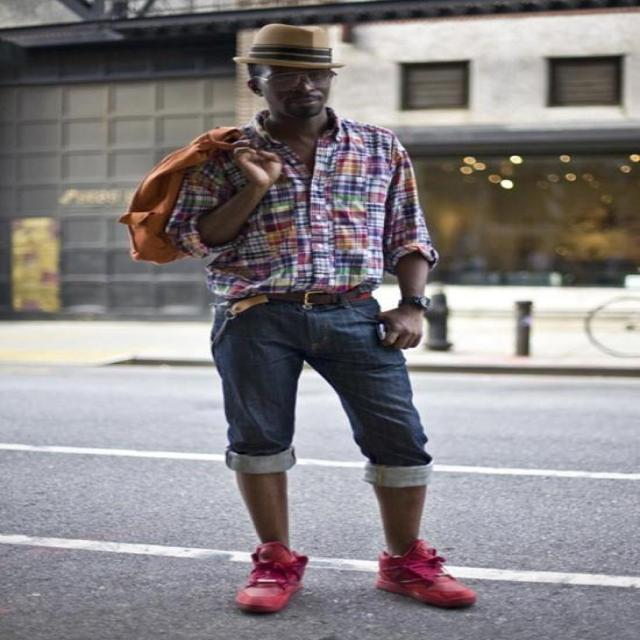shirt: (169, 108, 437, 298)
short: (209, 290, 431, 487)
